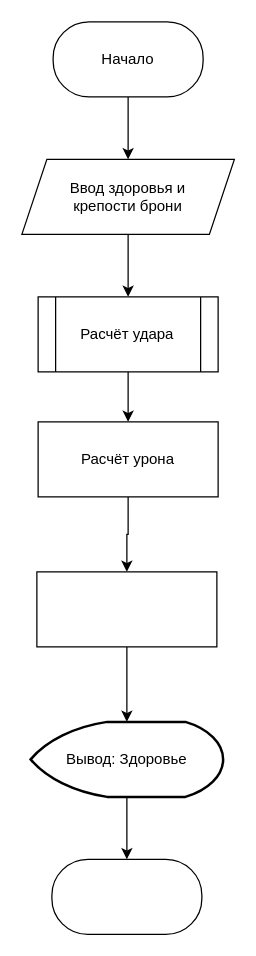
This 256x956 diagram has some shape labels left out. The centre of each missing label's shape, as x and y in pixels:
Вычисление здоровья: point (126, 609)
Конец: point (126, 896)
